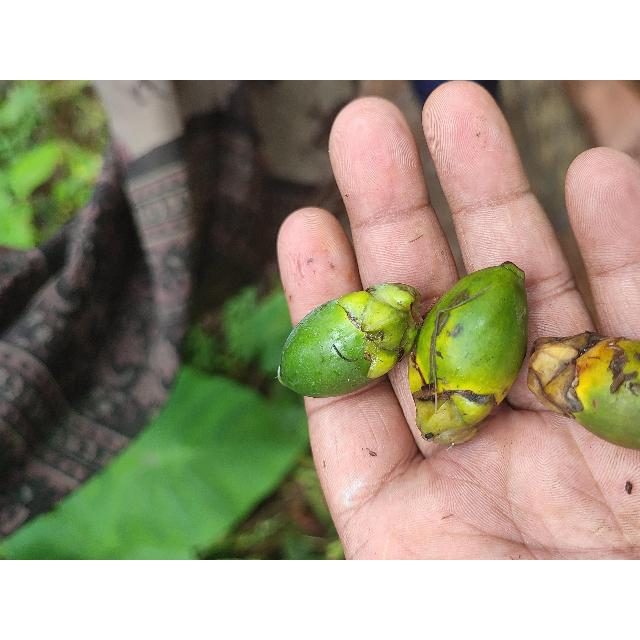damaged: (405, 262, 530, 448), (277, 284, 420, 400), (527, 333, 640, 454)
